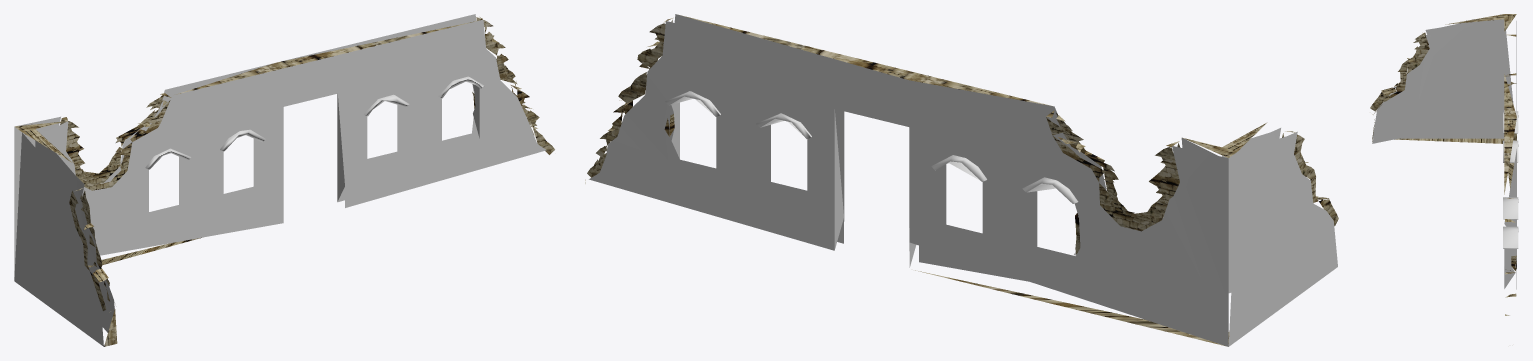
The model's file is ruins_wall_LOD.fbx.
3 renders of one model, left to right at view 1: azimuth 30°, elevation 25°; view 2: azimuth 150°, elevation 25°; view 3: azimuth 270°, elevation 25°, orthographic. The views are drawn at different scales.
Visible parts, largest first — view 1: brick_1; view 2: brick_1; view 3: brick_1.
Part boxes in pixels (x1,y1,x2,y2): brick_1: [14, 14, 554, 346]; brick_1: [585, 14, 1338, 346]; brick_1: [1370, 14, 1518, 315].
Bounding box in the file's own units: 1975 × 546 × 595.
